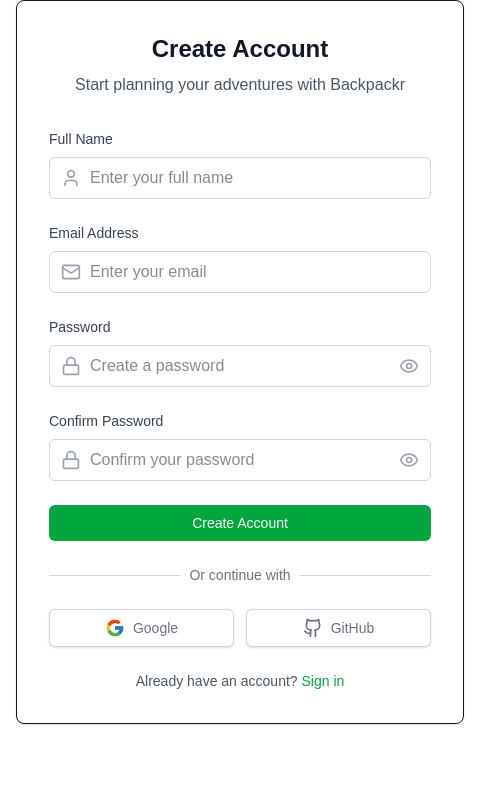
Scenario: SignupForm › Form Validation › shows error when full name is empty
Type "john@example.com" into the field labelled "Email Address" at point(240, 272), box [49,251,431,293]
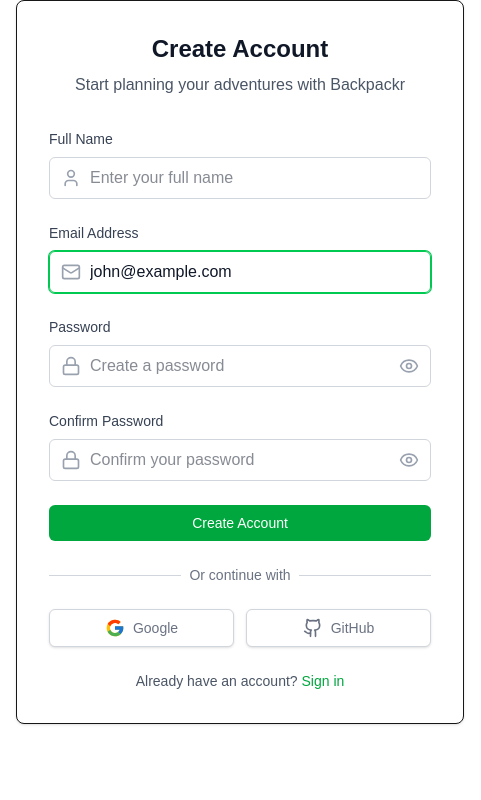
Type "password123" into the password field labelled "Password" at point(240, 366), box [49,345,431,387]
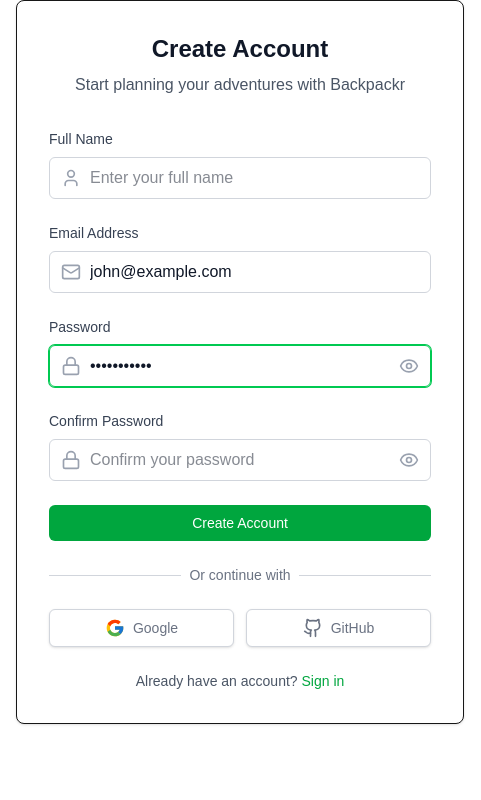
Type "password123" into the password field labelled "Confirm Password" at point(240, 460), box [49,439,431,481]
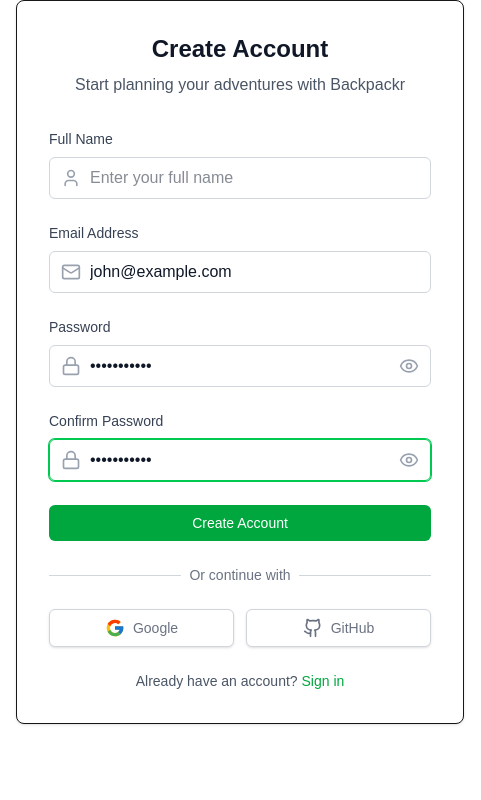
Click the button "Create Account" at point(240, 523), box [49,505,431,541]
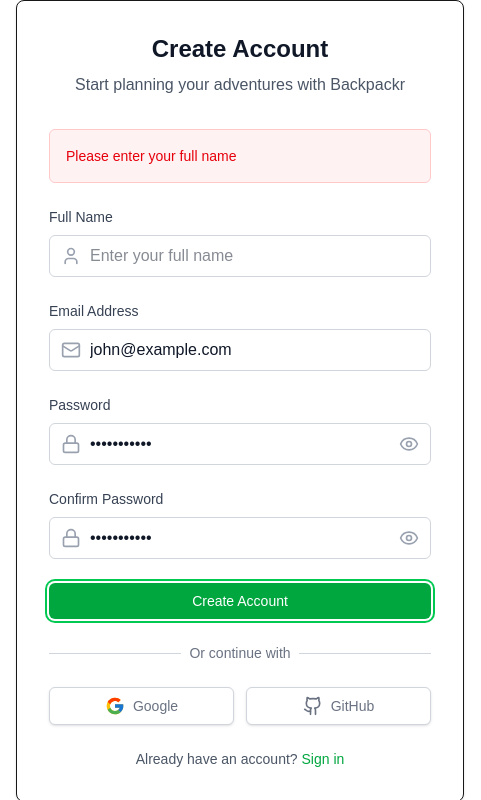
Now the text "Please enter your full name" is shown, box [66,148,236,164]
